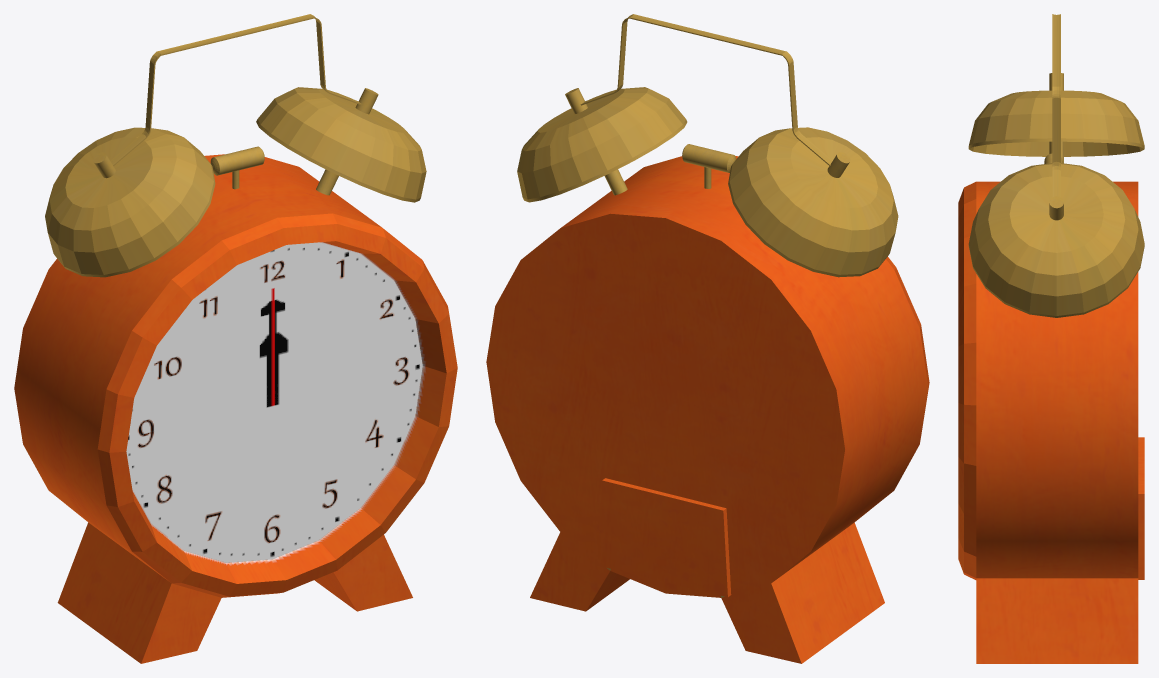
Rendered from Alarm_Clock.fbx.
The picture shows the model from 3 angles, left to right: view 1: azimuth 30°, elevation 25°; view 2: azimuth 150°, elevation 25°; view 3: azimuth 270°, elevation 25°; orthographic projection. The views are drawn at different scales.
Parts seen in each view (by area): view 1: Clock; view 2: Clock; view 3: Clock.
Part boxes in pixels (x1,y1,x2,y2): Clock: (14, 14, 457, 663); Clock: (486, 14, 929, 663); Clock: (958, 14, 1144, 663).
Bounding box in the file's own units: 10.01 × 15.09 × 4.64.
Materials: 1 (1 with a texture image).
